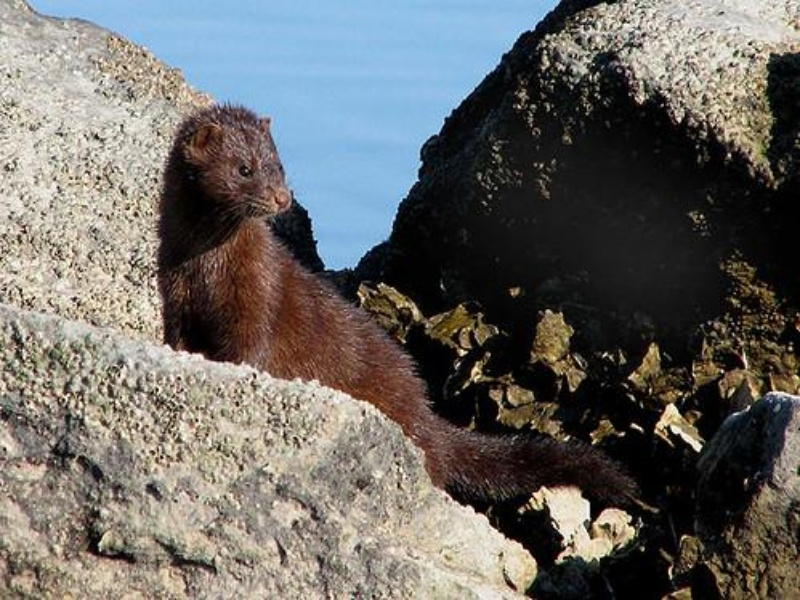minkish: (155, 103, 638, 519)
